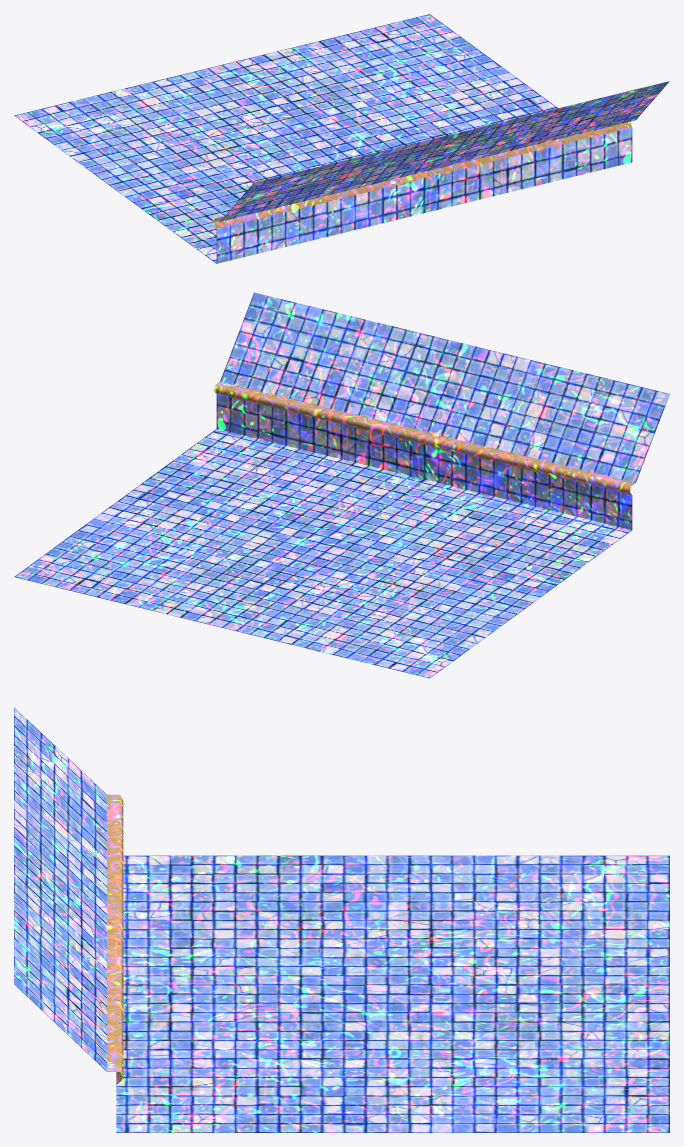
The model's file is water_1_sides_SM.fbx.
3 views of the same model, one above another, from view 1: azimuth 30°, elevation 25°; view 2: azimuth 150°, elevation 25°; view 3: azimuth 270°, elevation 25° (orthographic). The views are drawn at different scales.
Visible parts, largest first — view 1: water_1_sides_SM_LOD0; view 2: water_1_sides_SM_LOD0; view 3: water_1_sides_SM_LOD0.
Boxes of the visible parts, bbox=[...] form: water_1_sides_SM_LOD0: bbox=[14, 14, 669, 263]; water_1_sides_SM_LOD0: bbox=[14, 292, 669, 678]; water_1_sides_SM_LOD0: bbox=[14, 707, 669, 1132].
Bounding box in the file's own units: 1024 × 1024 × 256.
3 materials, 3 textured.
